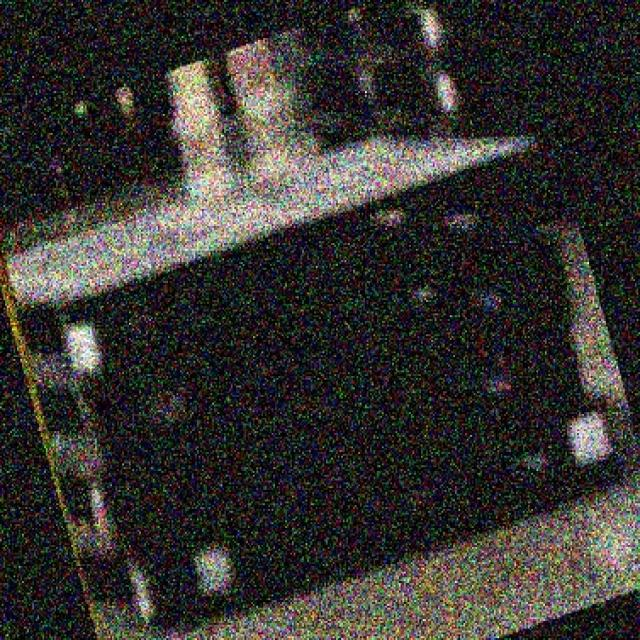igps: (0, 120, 576, 380), (115, 386, 640, 640)
